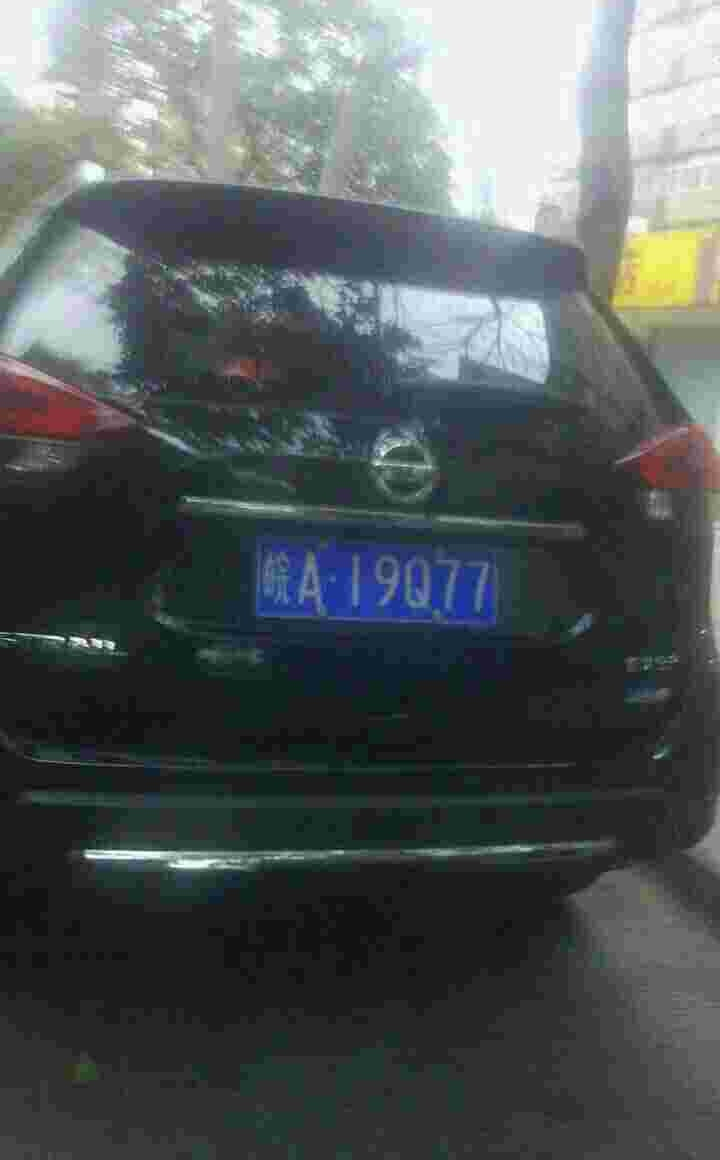license_plate: (248, 532, 507, 636)
